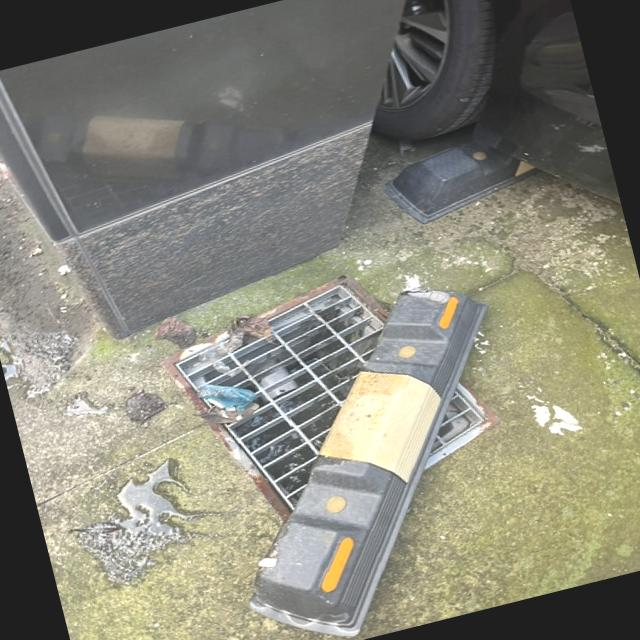drain_area: (176, 287, 386, 511), (429, 388, 486, 457)
drain_full: (174, 283, 487, 530)
